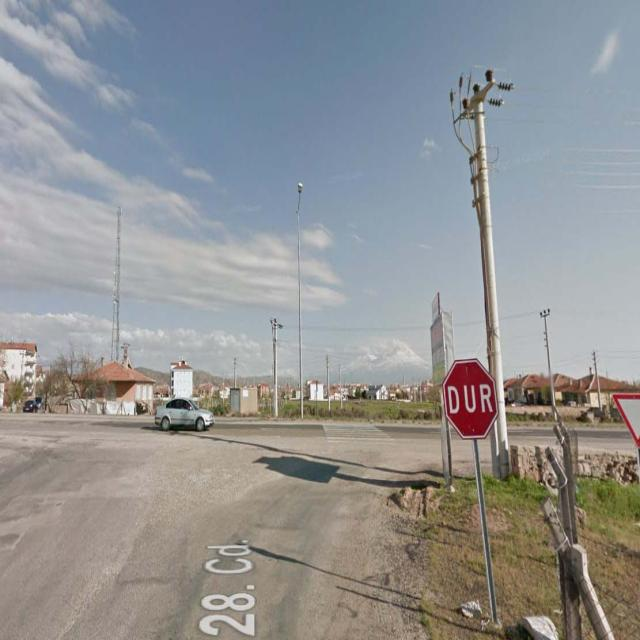dur: (442, 358, 496, 434)
